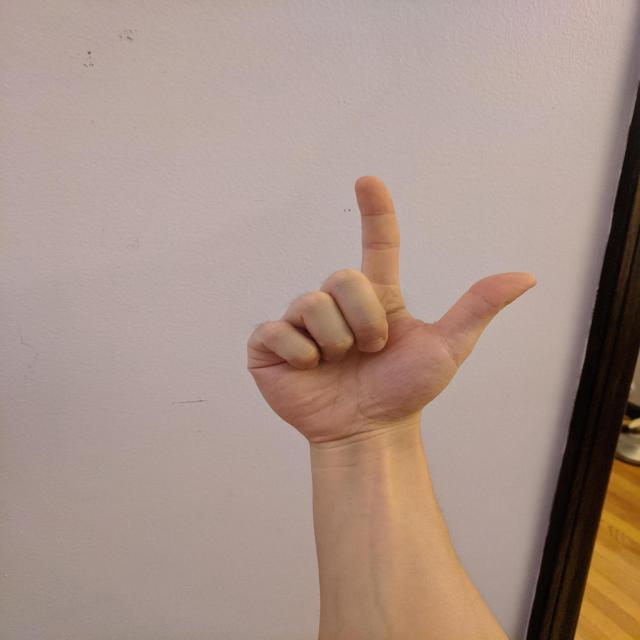L: (241, 171, 544, 448)
